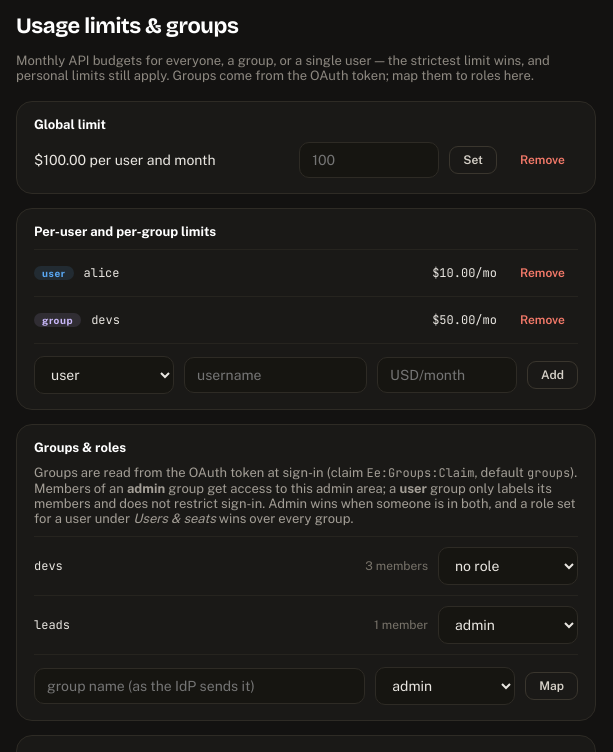
AdminLimitsView › maps a group nobody has signed in with yet
Type " new-admins " into the field with placeholder "group name (as the IdP sends it)" at (200, 686), box [34, 668, 365, 704]
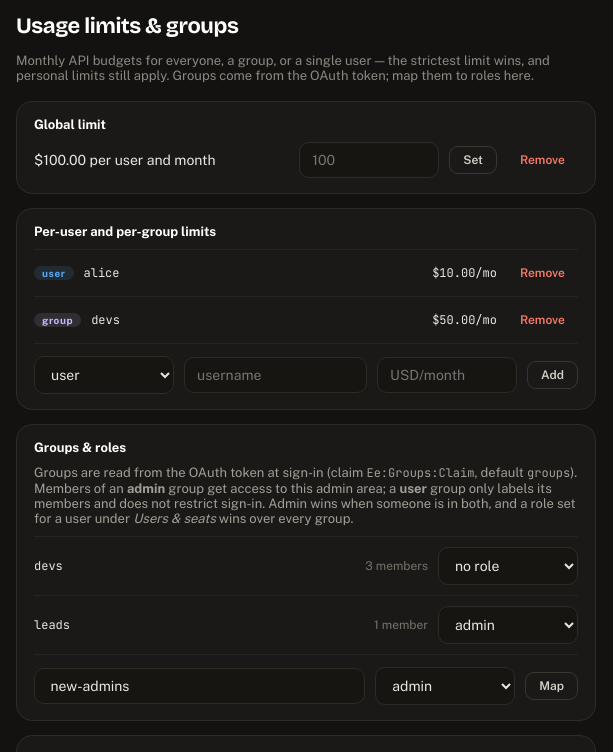
Click the button "Map" at (552, 686), box [525, 672, 578, 700]
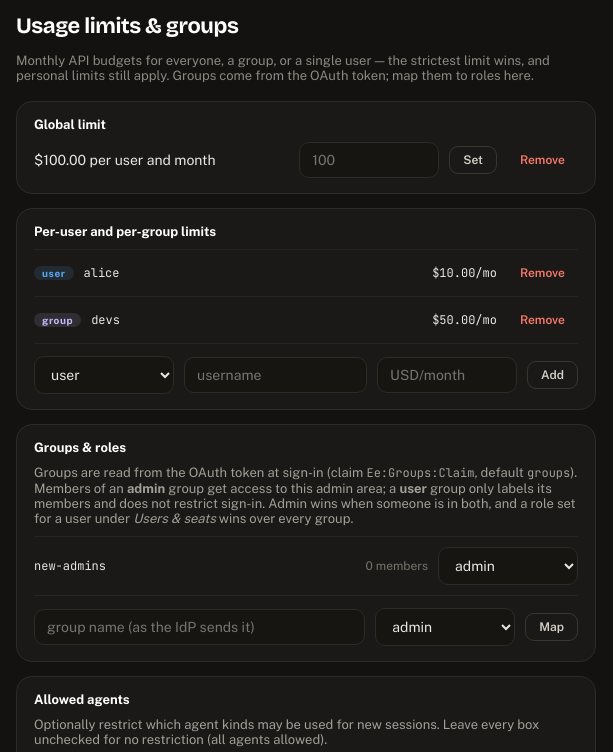
Result: the dropdown next to "0 members" shows "admin" at [438, 547, 578, 585]
Result: the field with placeholder "group name (as the IdP sends it)" is empty at [34, 609, 365, 645]
